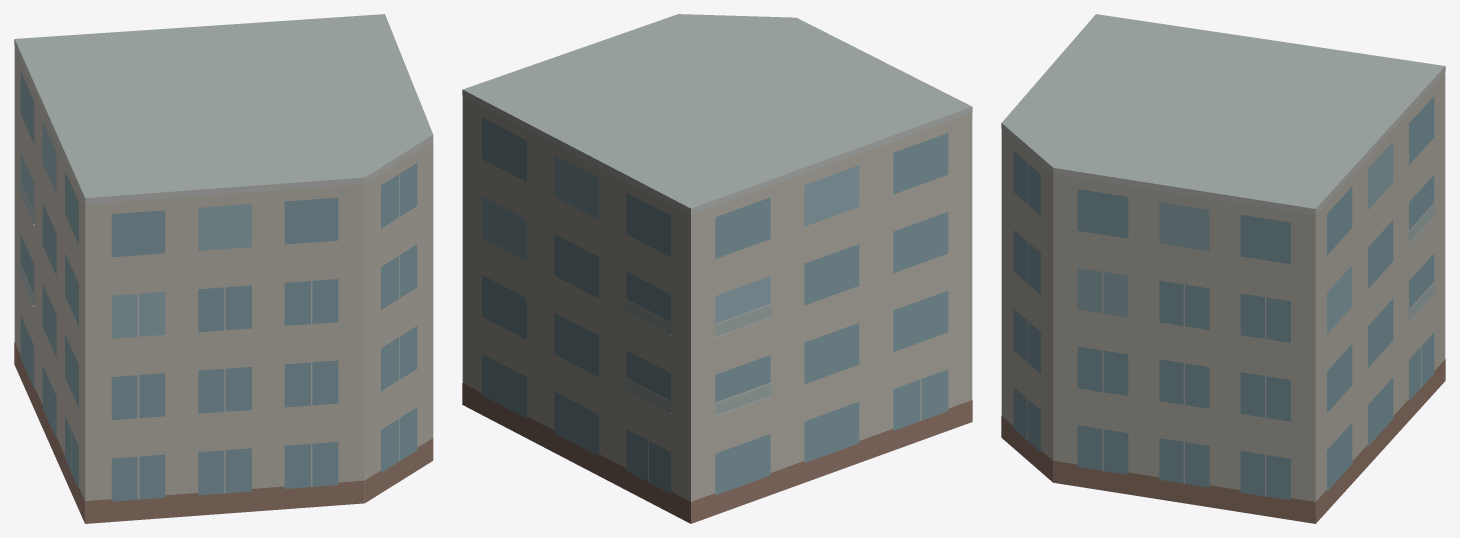
The model's file is survey-upis-32890660.glb.
3 renders of one model, left to right at view 1: azimuth 30°, elevation 25°; view 2: azimuth 150°, elevation 25°; view 3: azimuth 270°, elevation 25°, orthographic. The views are drawn at different scales.
Visible parts, largest first — view 1: survey-upis-32890660.tmp; view 2: survey-upis-32890660.tmp; view 3: survey-upis-32890660.tmp.
Part boxes in pixels (x1,y1,x2,y2): survey-upis-32890660.tmp: [14, 14, 433, 523]; survey-upis-32890660.tmp: [462, 14, 972, 523]; survey-upis-32890660.tmp: [1001, 14, 1445, 523].
Bounding box in the file's own units: 16.61 × 12.5 × 15.98.
